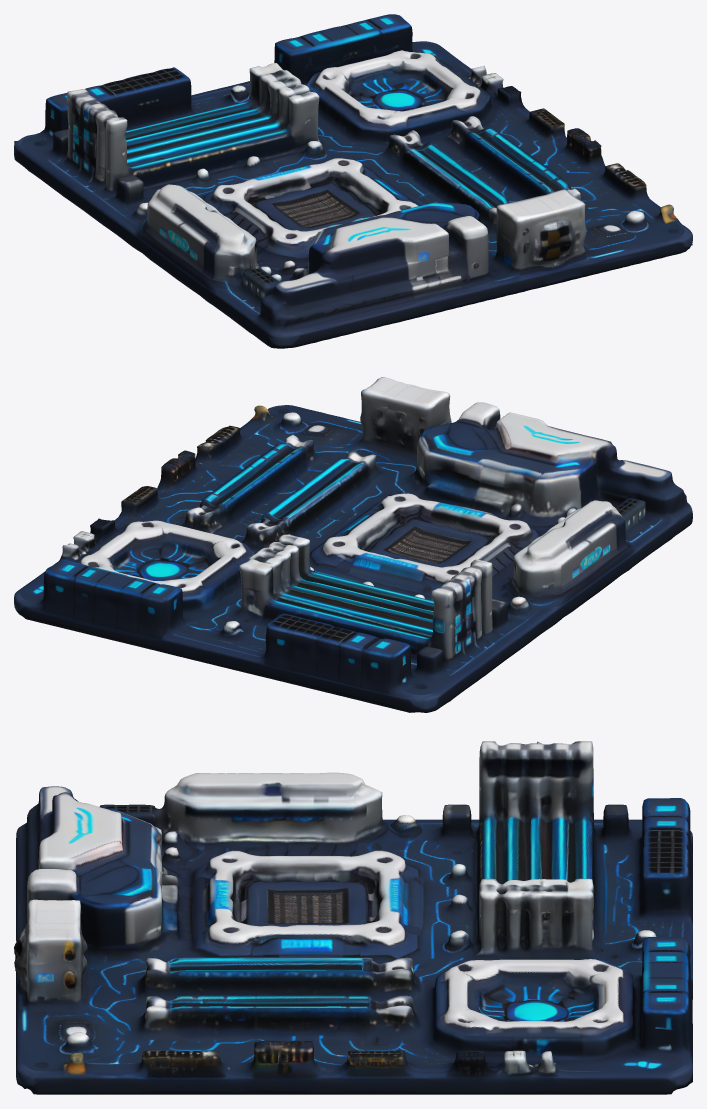
The model's file is motherboard.fbx.
3 renders of one model, top to bottom at view 1: azimuth 30°, elevation 25°; view 2: azimuth 150°, elevation 25°; view 3: azimuth 270°, elevation 25°, orthographic. The views are drawn at different scales.
Parts seen in each view (by area): view 1: model.012; view 2: model.012; view 3: model.012.
Boxes of the visible parts, x1,y1,x2,y2 form: model.012: (14,14,692,348); model.012: (14,377,692,712); model.012: (14,741,692,1094).
Size of the model in its own units: 96.58 by 19.26 by 108.
1 material, 1 textured.
